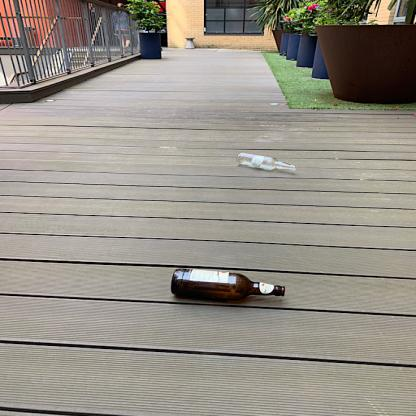trash: (166, 269, 286, 302), (236, 150, 298, 176)
